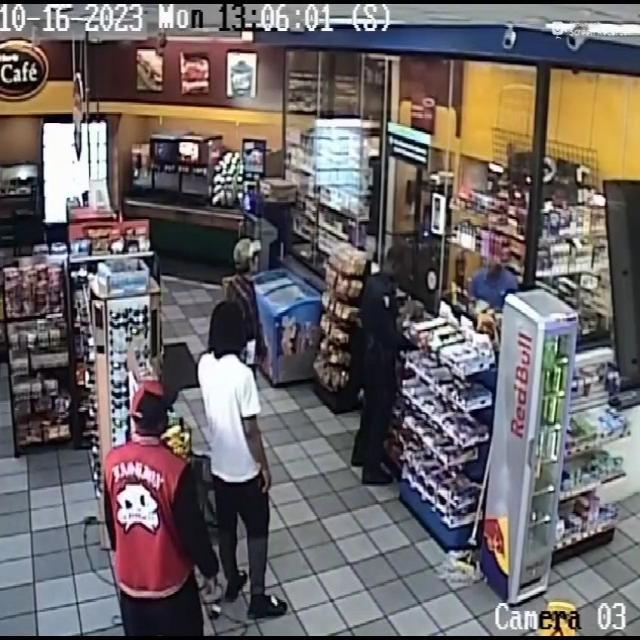normal: (177, 283, 305, 628), (90, 388, 240, 640), (337, 227, 439, 502), (216, 228, 290, 344)
